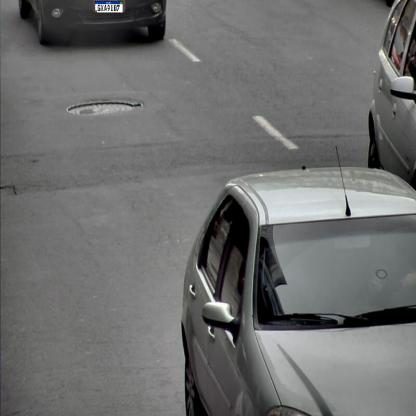PlacaM: (95, 1, 123, 13)
